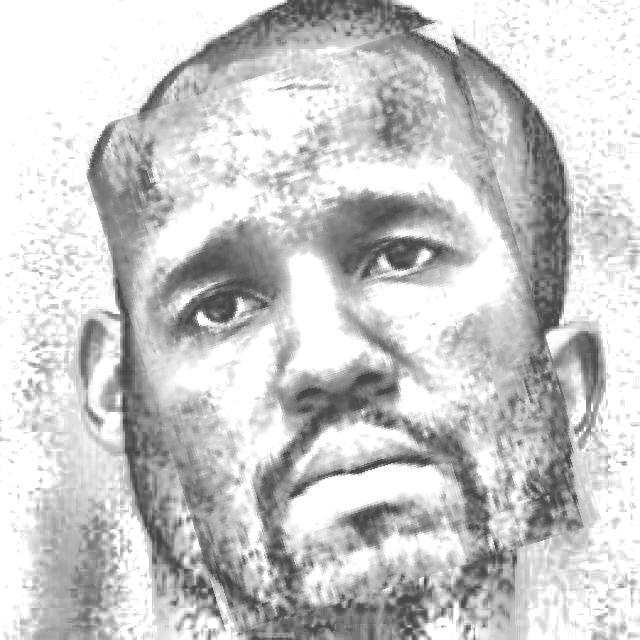sad: (108, 41, 568, 614)
